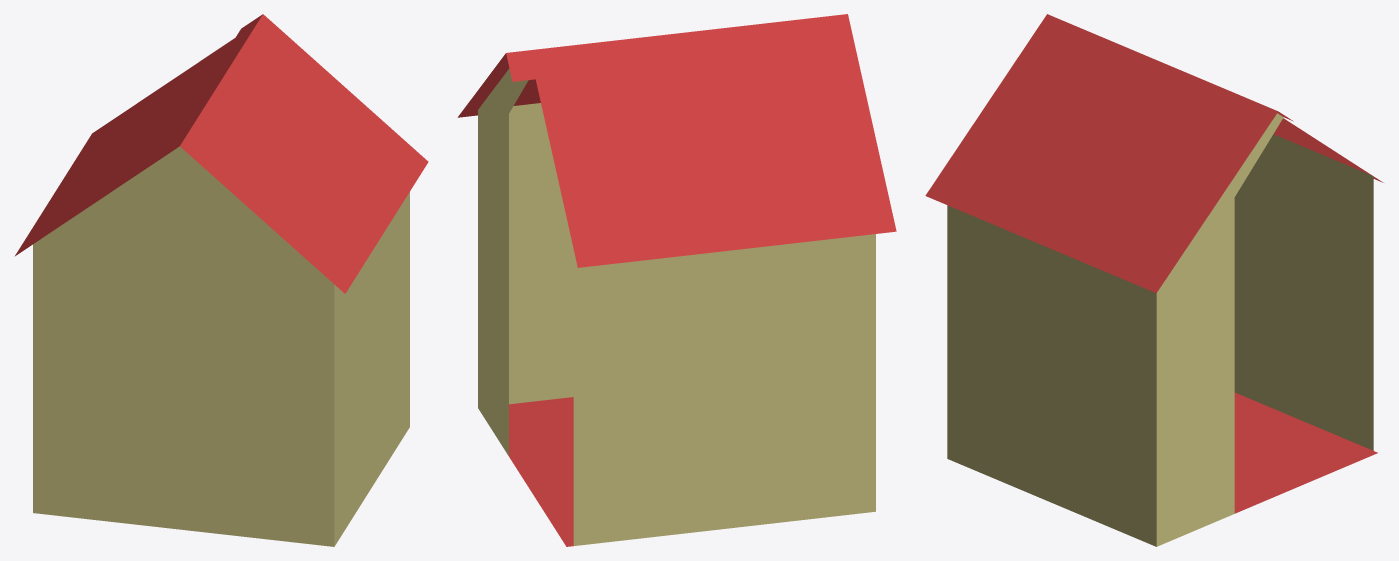
The picture shows the model from 3 angles, left to right: view 1: azimuth 30°, elevation 25°; view 2: azimuth 150°, elevation 25°; view 3: azimuth 270°, elevation 25°; orthographic projection. The views are drawn at different scales.
Bounding box in the file's own units: 15.36 × 14.85 × 14.02.
